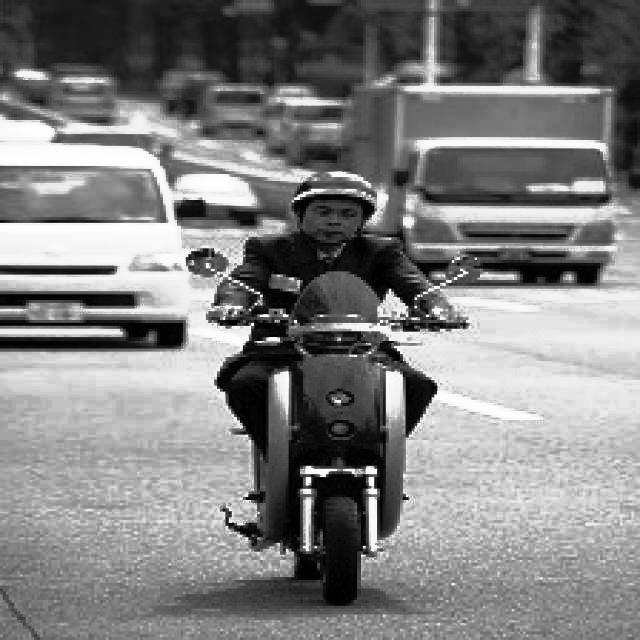Bike: (261, 307, 453, 599)
